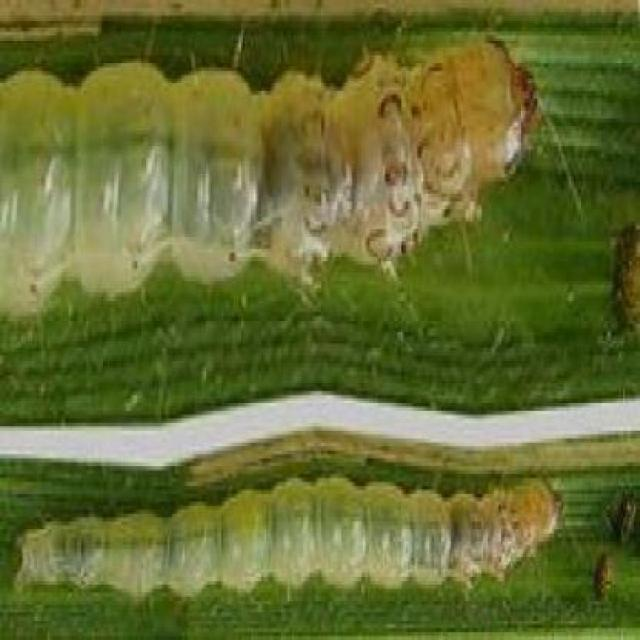leaf-folder: (22, 19, 558, 346), (4, 448, 570, 607)
